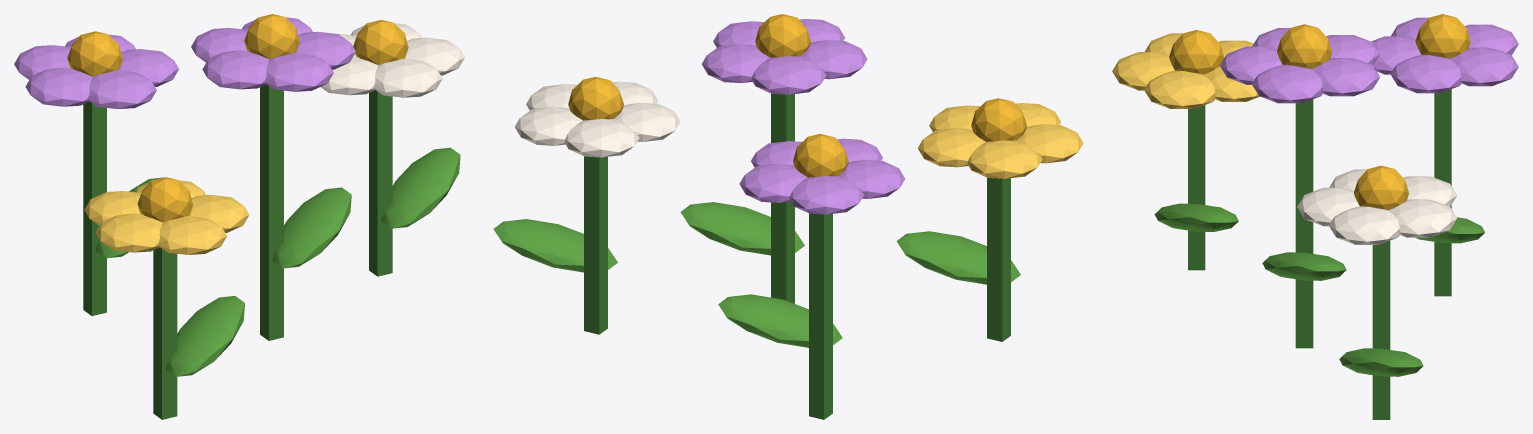
Rendered from flowers_b.glb.
The picture shows the model from 3 angles, left to right: view 1: azimuth 30°, elevation 25°; view 2: azimuth 150°, elevation 25°; view 3: azimuth 270°, elevation 25°; orthographic projection.
Visible parts, largest first — view 1: flowers_b; view 2: flowers_b; view 3: flowers_b.
Part boxes in pixels (x1=…): flowers_b: x1=14, y1=14, x2=464, y2=419; flowers_b: x1=493, y1=14, x2=1083, y2=419; flowers_b: x1=1112, y1=14, x2=1518, y2=419.
Size of the model in its own units: 0.3478 by 0.228 by 0.2643.
